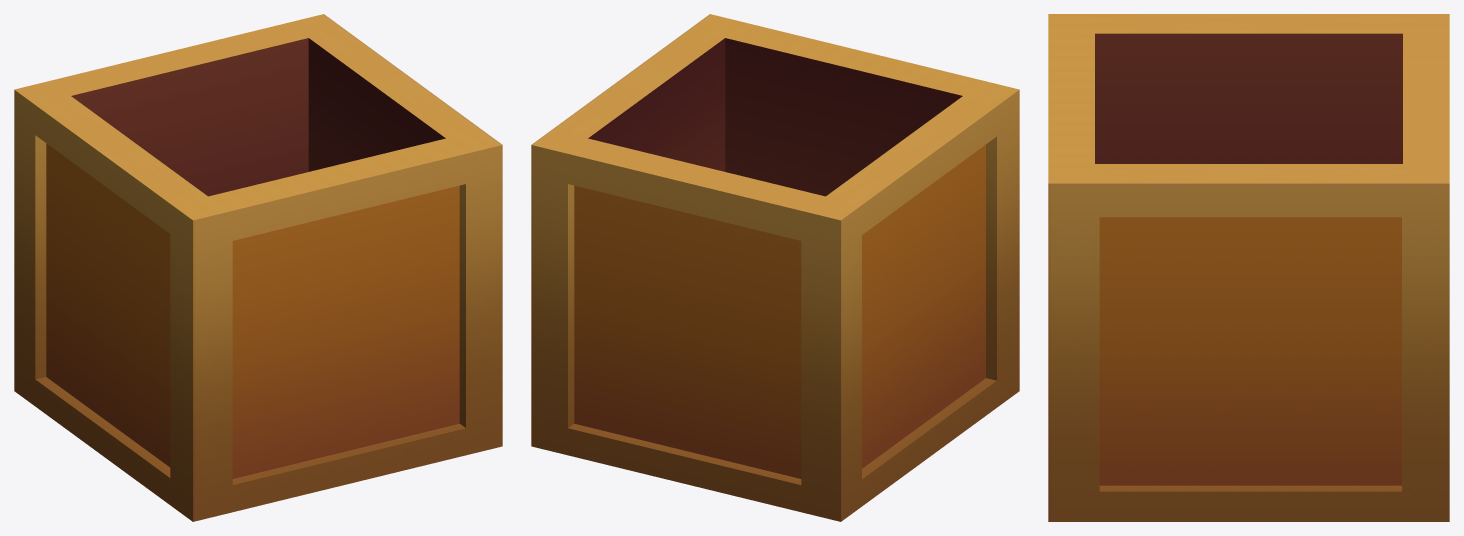
The model's file is P_Crate.fbx.
The picture shows the model from 3 angles, left to right: view 1: azimuth 30°, elevation 25°; view 2: azimuth 150°, elevation 25°; view 3: azimuth 270°, elevation 25°; orthographic projection. The views are drawn at different scales.
Parts seen in each view (by area): view 1: PastCrate; view 2: PastCrate; view 3: PastCrate.
Part boxes in pixels (x1,y1,x2,y2): PastCrate: (14,14,502,521); PastCrate: (531,14,1019,521); PastCrate: (1048,14,1449,521).
Bounding box in the file's own units: 108 × 100 × 108.
